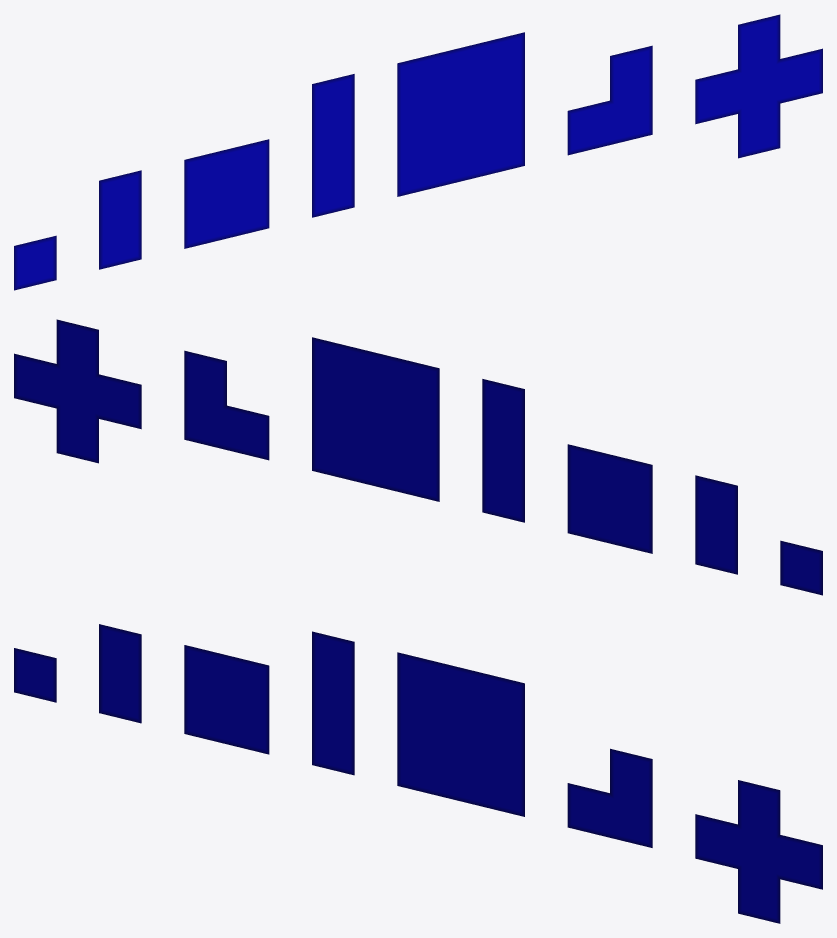
File: BJ_Plat_ChamferGrid_Walls.fbx
The picture shows the model from 3 angles, top to bottom: view 1: azimuth 30°, elevation 25°; view 2: azimuth 150°, elevation 25°; view 3: azimuth 330°, elevation 25°; orthographic projection.
Visible parts, largest first — view 1: Wall_3x3, Wall_Cross_3x3, Wall_2x2, Wall_L_2x2, Wall_1x3, Wall_1x2, Wall_1x1; view 2: Wall_3x3, Wall_Cross_3x3, Wall_2x2, Wall_L_2x2, Wall_1x3, Wall_1x2, Wall_1x1; view 3: Wall_3x3, Wall_Cross_3x3, Wall_2x2, Wall_L_2x2, Wall_1x3, Wall_1x2, Wall_1x1.
Part boxes in pixels (x1,y1,x2,y2): Wall_3x3: (397,32,524,196); Wall_Cross_3x3: (695,14,822,158); Wall_2x2: (184,139,269,248); Wall_L_2x2: (567,45,652,155); Wall_1x3: (312,74,354,217); Wall_1x2: (99,170,141,269); Wall_1x1: (14,235,56,290); Wall_3x3: (312,337,439,501); Wall_Cross_3x3: (14,319,141,463); Wall_2x2: (567,444,652,553); Wall_L_2x2: (184,350,269,460); Wall_1x3: (482,379,524,522); Wall_1x2: (695,475,737,574); Wall_1x1: (780,540,822,595); Wall_3x3: (397,652,524,816); Wall_Cross_3x3: (695,780,822,923); Wall_2x2: (184,645,269,754); Wall_L_2x2: (567,748,652,847); Wall_1x3: (312,631,354,775); Wall_1x2: (99,624,141,723); Wall_1x1: (14,648,56,702).
Size of the model in its own units: 19 by 4 by 1.63e-07.
